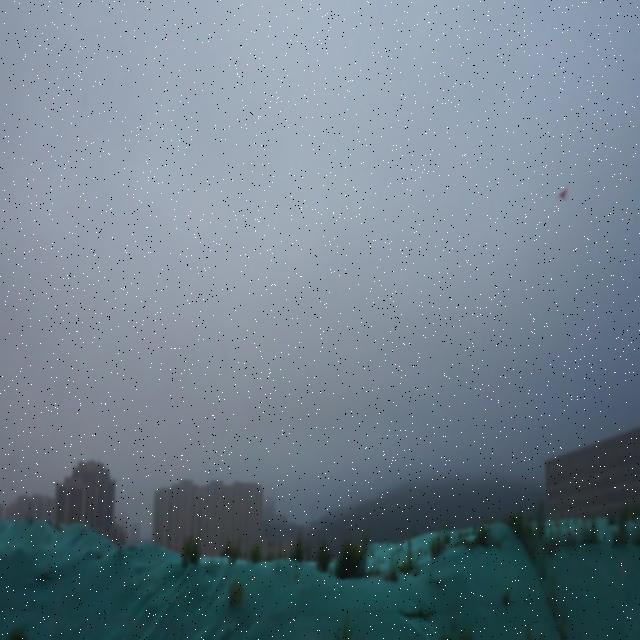UAV: (558, 186, 570, 200)
